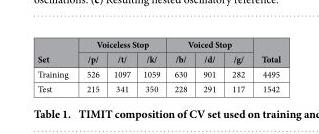table: (36, 37, 280, 94)
table column: (36, 37, 76, 94), (105, 37, 136, 94), (136, 37, 166, 94), (76, 37, 105, 94), (194, 37, 223, 94), (223, 37, 252, 94), (166, 37, 194, 94), (252, 37, 280, 94)
table column header: (36, 37, 280, 66)
table row: (36, 51, 280, 66), (36, 66, 280, 81), (36, 37, 280, 51), (36, 81, 280, 94)
table spanning cell: (76, 37, 166, 51), (166, 37, 252, 51), (36, 37, 76, 66), (252, 37, 280, 66)
